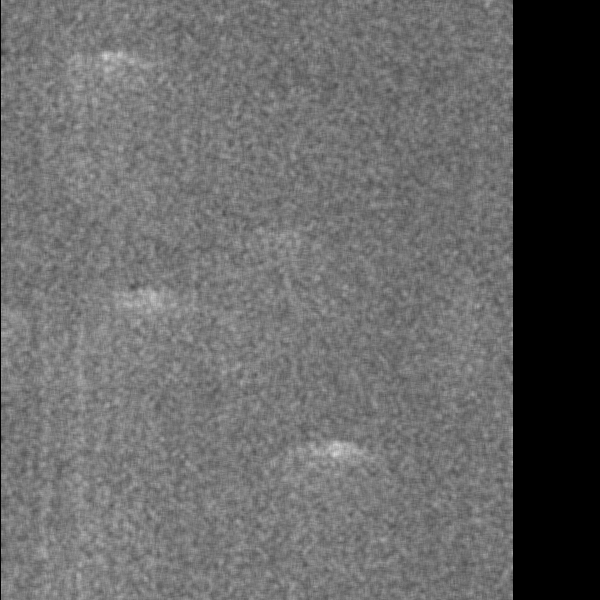spark: (75, 48, 138, 86), (137, 285, 168, 331), (324, 433, 347, 469)
